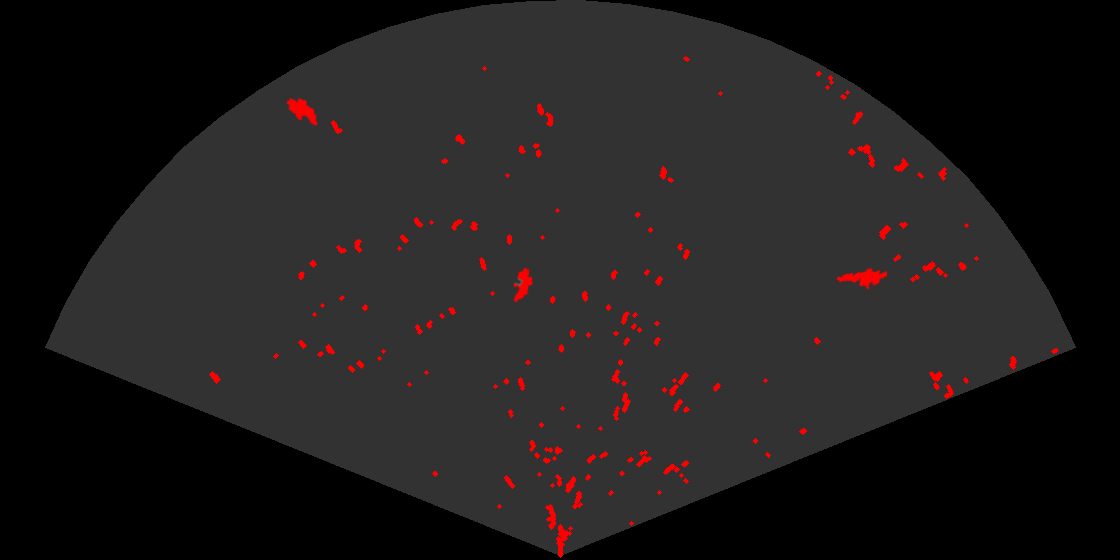AUV: (285, 96, 319, 127), (511, 266, 535, 304)
frogman: (834, 266, 887, 291)
